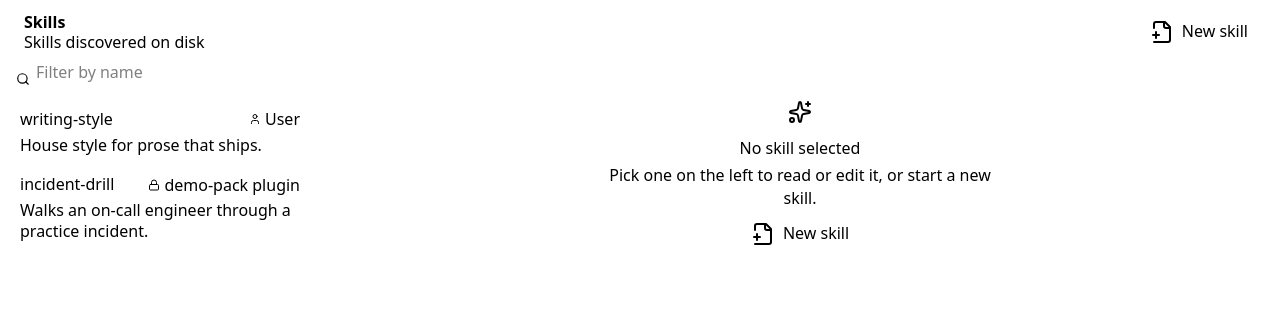
it: DefinitionWorkbench › explains a plugin file rather than only disabling it
Click the button "incident-drill".
click(160, 208)  # box [8,165,312,251]
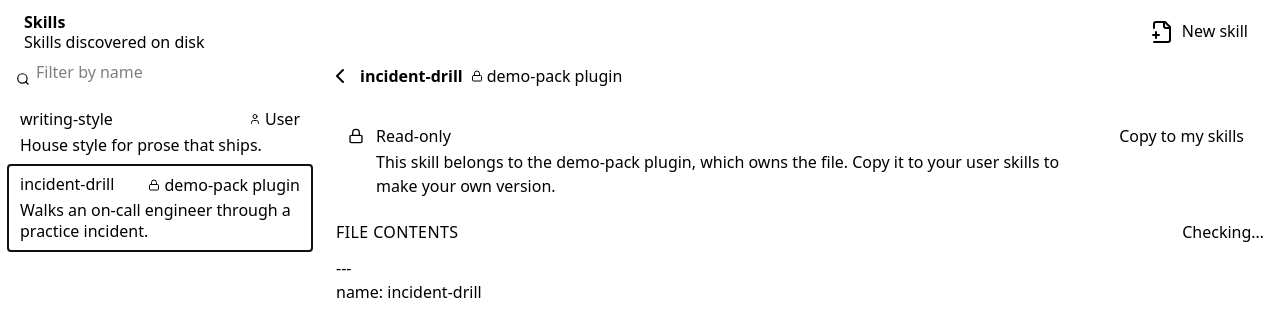
Expected: the text "This skill belongs to the demo-pack plugin, which owns the file. Copy it to your user skills to make your own version." is shown, [376,151,1059,197]
Expected: the button "Copy to my skills" is shown, [1111,126,1252,147]
